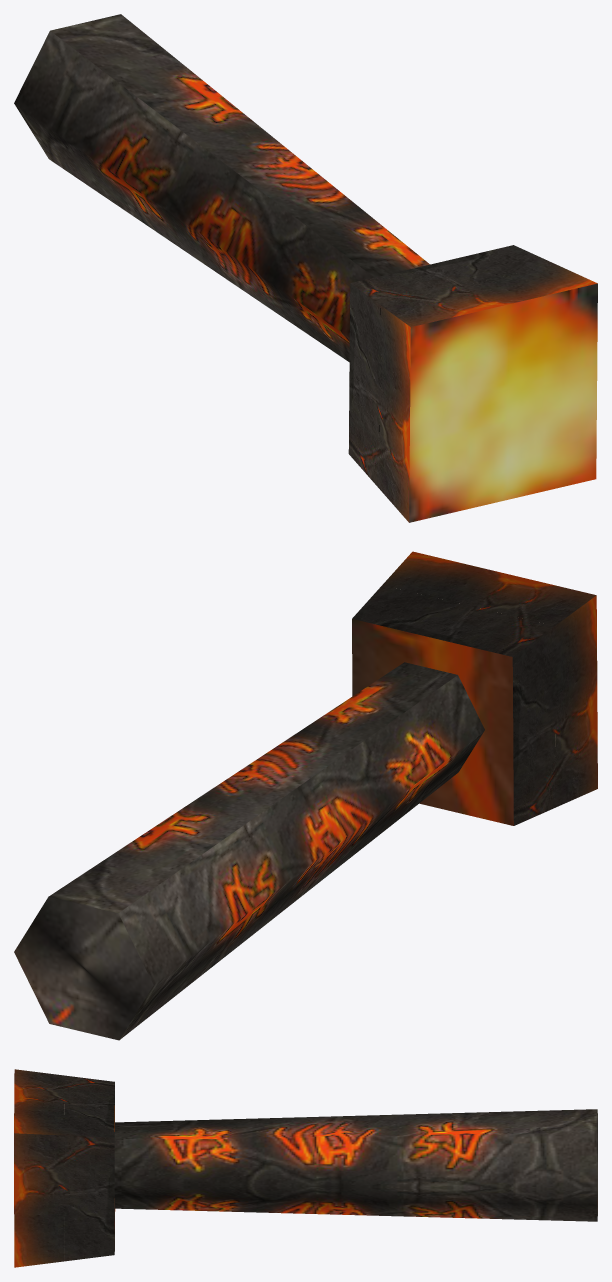
The model's file is column_10.obj.
3 views of the same model, one above another, from view 1: azimuth 30°, elevation 25°; view 2: azimuth 150°, elevation 25°; view 3: azimuth 270°, elevation 25° (orthographic). The views are drawn at different scales.
Parts seen in each view (by area): view 1: (null); view 2: (null); view 3: (null).
Part boxes in pixels (x1,y1,x2,y2): (null): (14, 14, 597, 522); (null): (14, 551, 597, 1040); (null): (14, 1069, 597, 1267).
Size of the model in its own units: 0.6854 by 0.6854 by 2.67.
